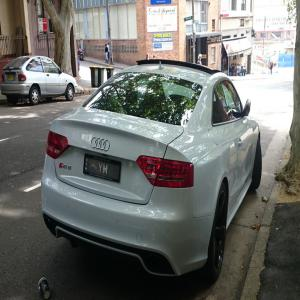Vehicle-registration-plate: (85, 151, 120, 197)
